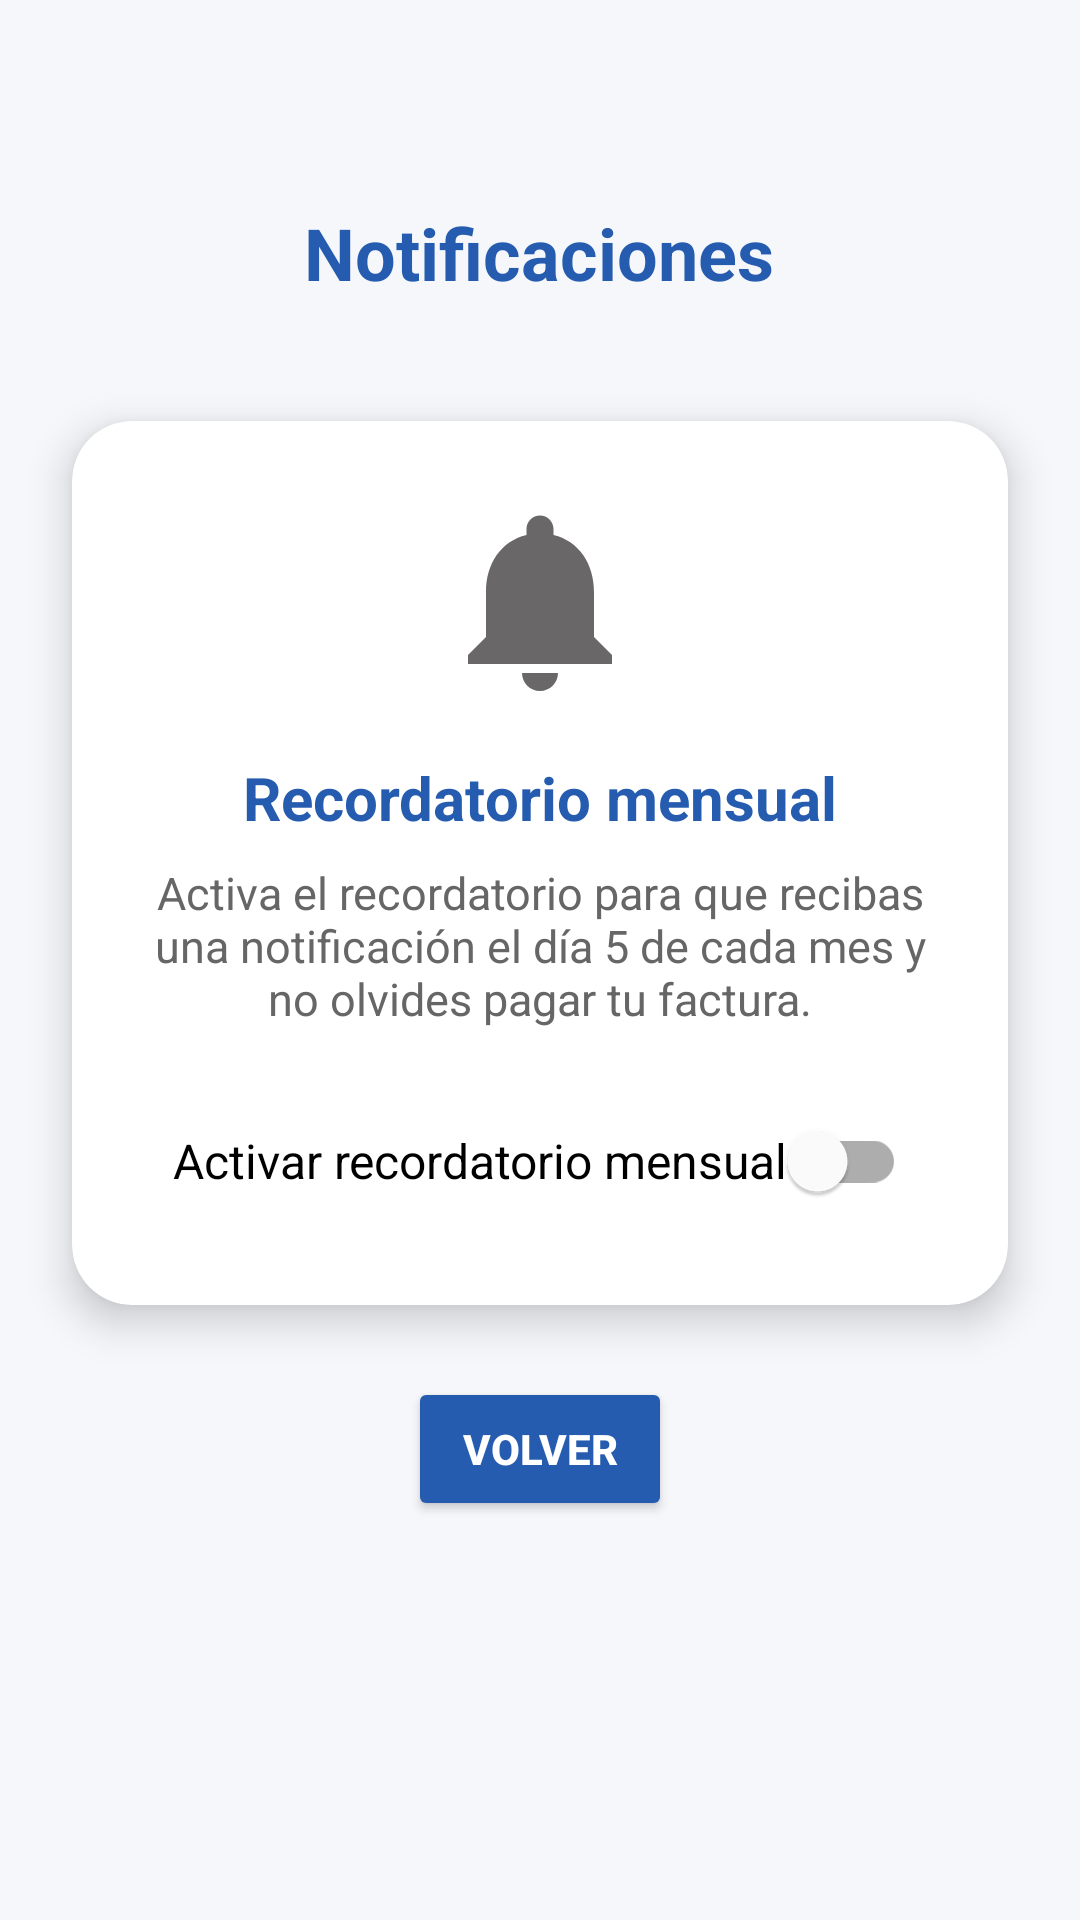

Where icons sit on this 1080×1920 app screen, as (x1, y1, x2, y2):
Icono de notificación: (468, 515, 612, 691)
